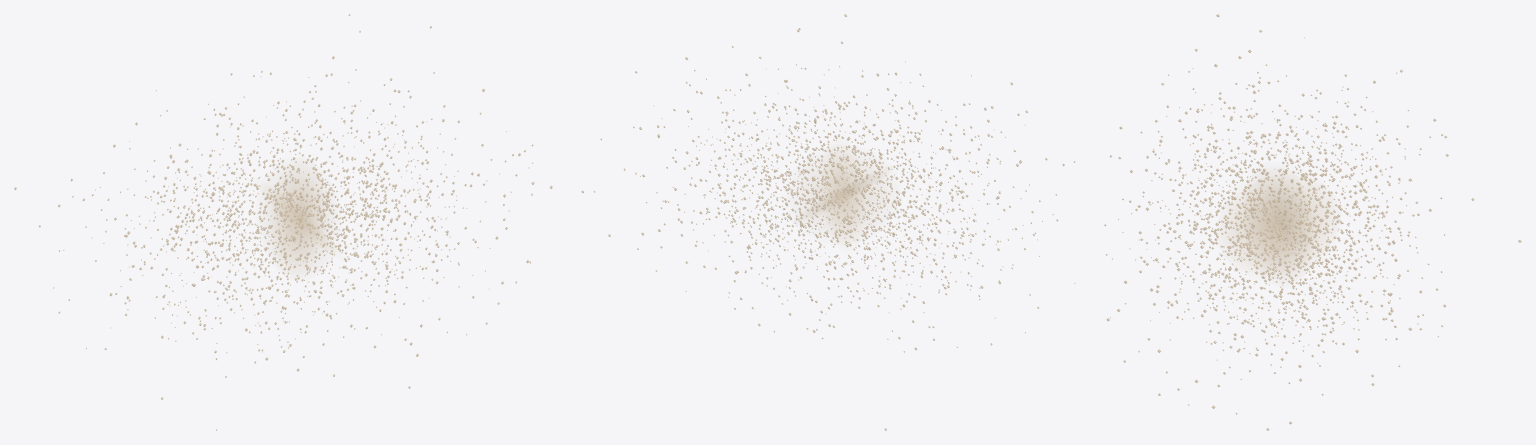
The picture shows the model from 3 angles, left to right: view 1: azimuth 30°, elevation 25°; view 2: azimuth 150°, elevation 25°; view 3: azimuth 270°, elevation 25°; orthographic projection. The views are drawn at different scales.
Size of the model in its own units: 7.19 by 5.32 by 5.37.
